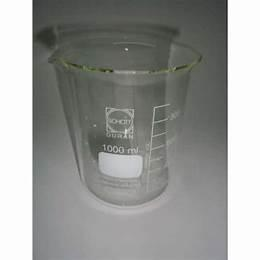Beaker: (51, 28, 196, 208)
